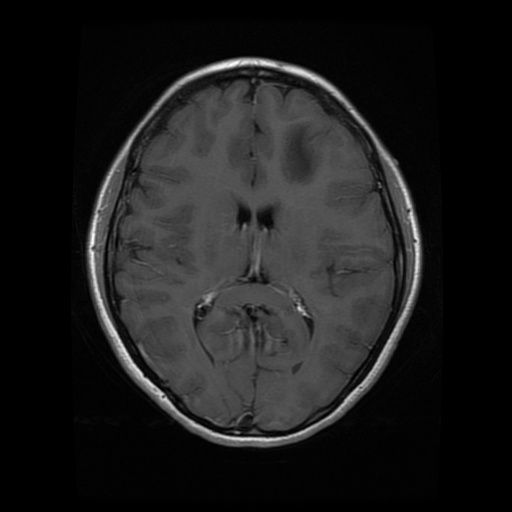glioma: (277, 122, 319, 184)
